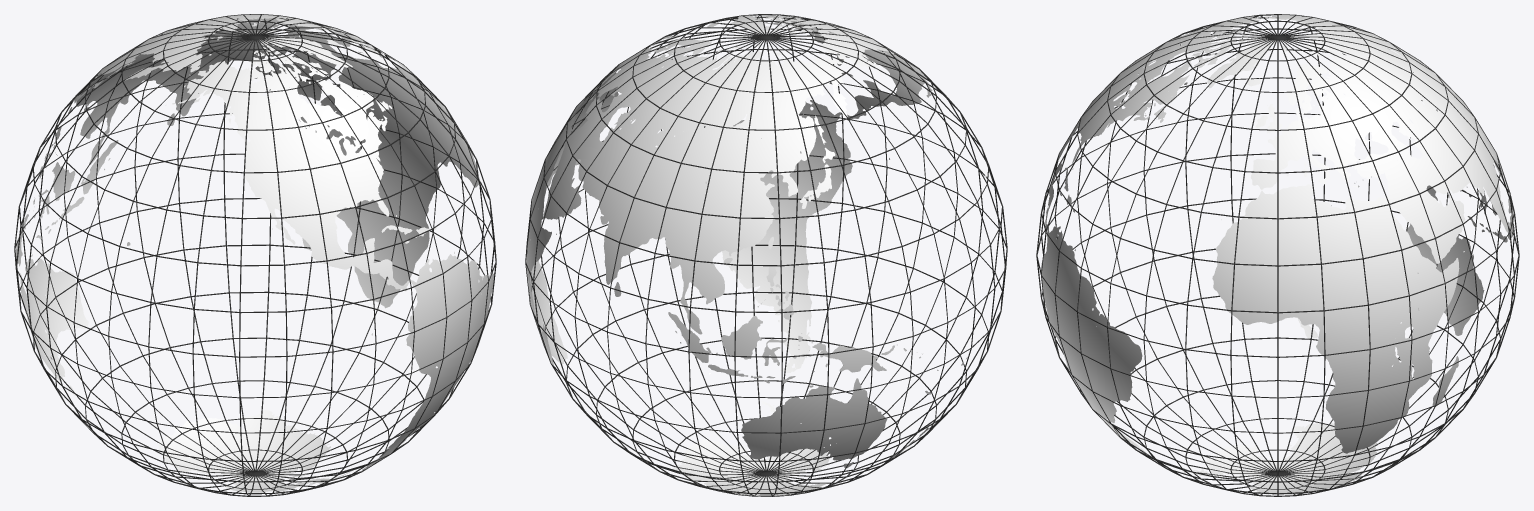
File: wireframe_earth.glb
The picture shows the model from 3 angles, left to right: view 1: azimuth 30°, elevation 25°; view 2: azimuth 150°, elevation 25°; view 3: azimuth 270°, elevation 25°; orthographic projection.
Visible parts, largest first — view 1: earth.001, wire.002; view 2: earth.001, wire.002; view 3: earth.001, wire.002.
Part boxes in pixels (<box>): earth.001: <box>16,14,494,492</box>; wire.002: <box>14,14,496,496</box>; earth.001: <box>526,15,986,496</box>; wire.002: <box>525,14,1007,496</box>; earth.001: <box>1041,15,1514,494</box>; wire.002: <box>1036,14,1519,496</box>.
Bounding box in the file's own units: 2.03 × 2.03 × 2.03.
Materials: 2 (2 with a texture image).
